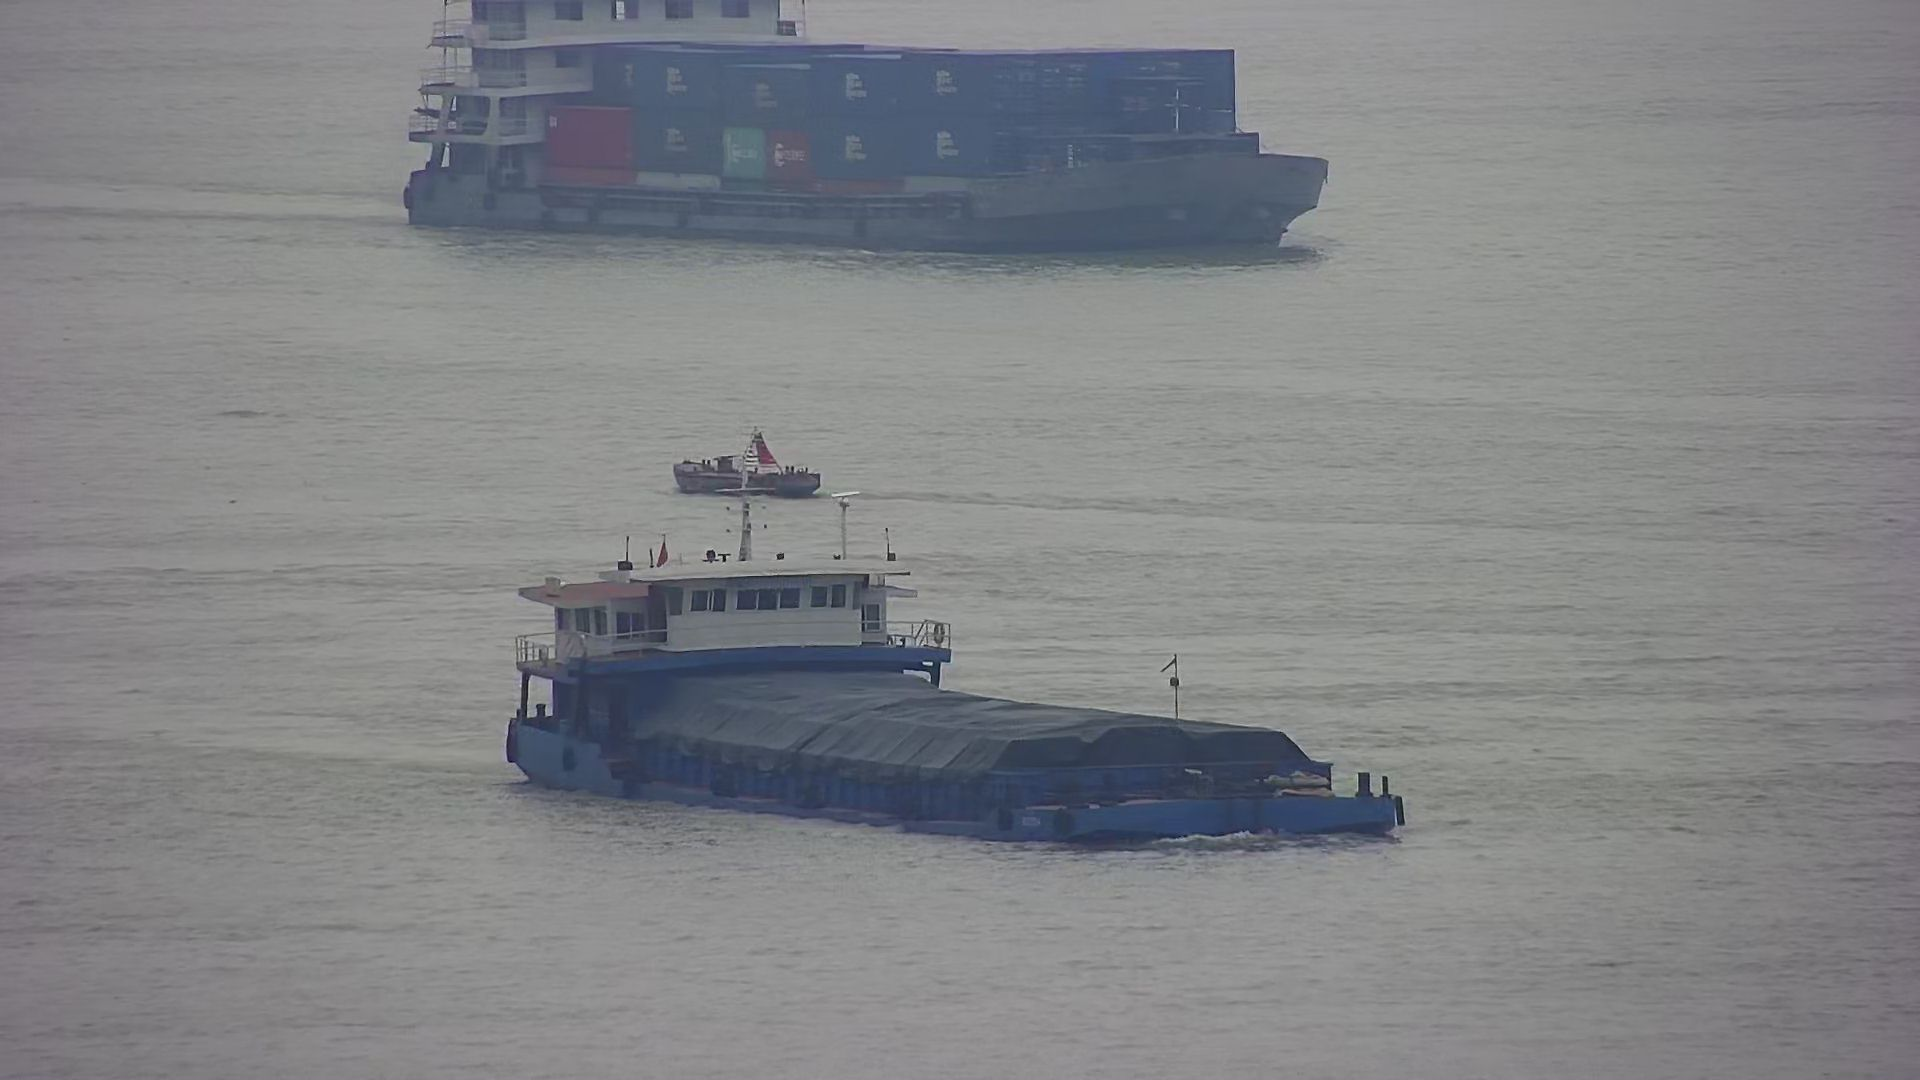boat: (676, 417, 814, 498)
ship: (498, 495, 1408, 847), (404, 4, 1327, 258)
